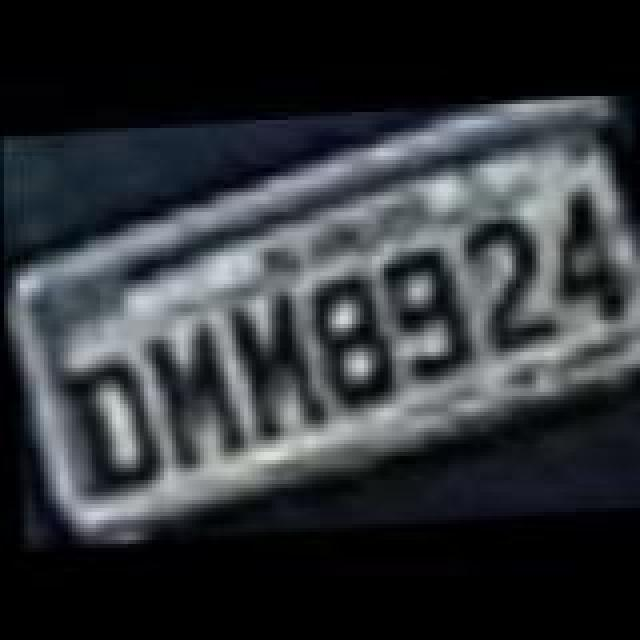2: (454, 206, 558, 358)
4: (538, 172, 630, 328)
8: (302, 262, 394, 410)
9: (376, 238, 472, 378)
D: (64, 346, 160, 502)
M: (226, 280, 330, 444), (138, 306, 242, 470)
